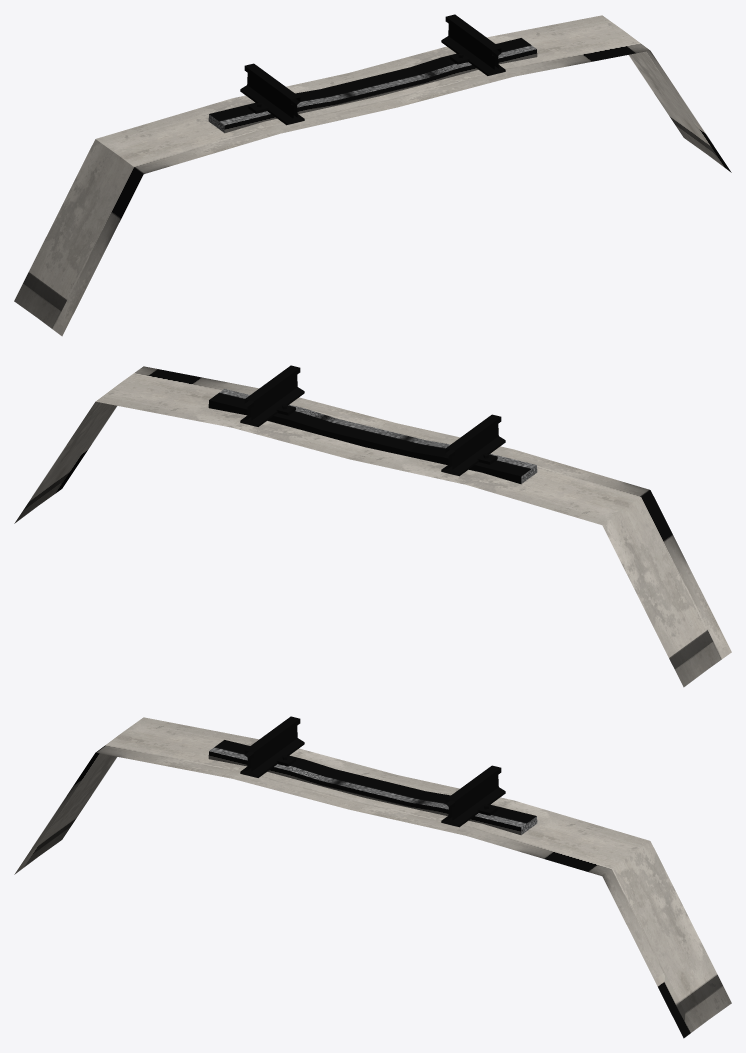
The model's file is rail_sleeper.obj.
3 renders of one model, top to bottom at view 1: azimuth 30°, elevation 25°; view 2: azimuth 150°, elevation 25°; view 3: azimuth 330°, elevation 25°, orthographic.
Size of the model in its own units: 5.01 by 1.29 by 0.625.
Materials: 1 (1 with a texture image).
